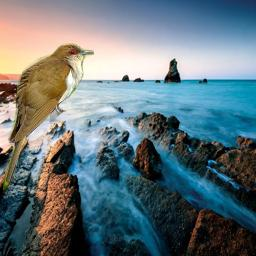Cuckoo: (3, 42, 94, 194)
